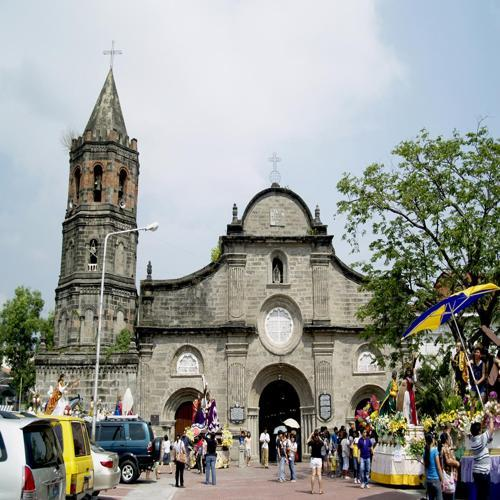Barasoain Church: (32, 32, 424, 480)
